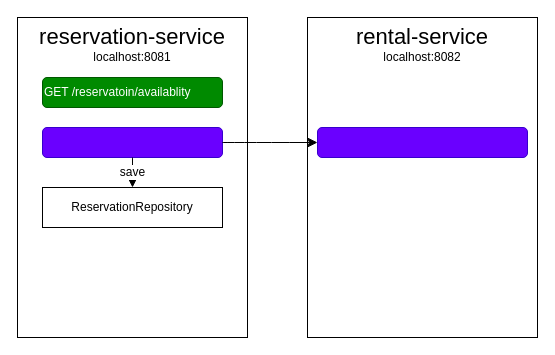
This 555x355 diagram has some shape labels left out. The shapes that lost their labels are listed below. From the top down, each one's centre as x and y in pixels, then its label:
At point 132,142: "POST /reservatoin".
At point 422,142: "POST /start/{userId}/{reservationId}".
